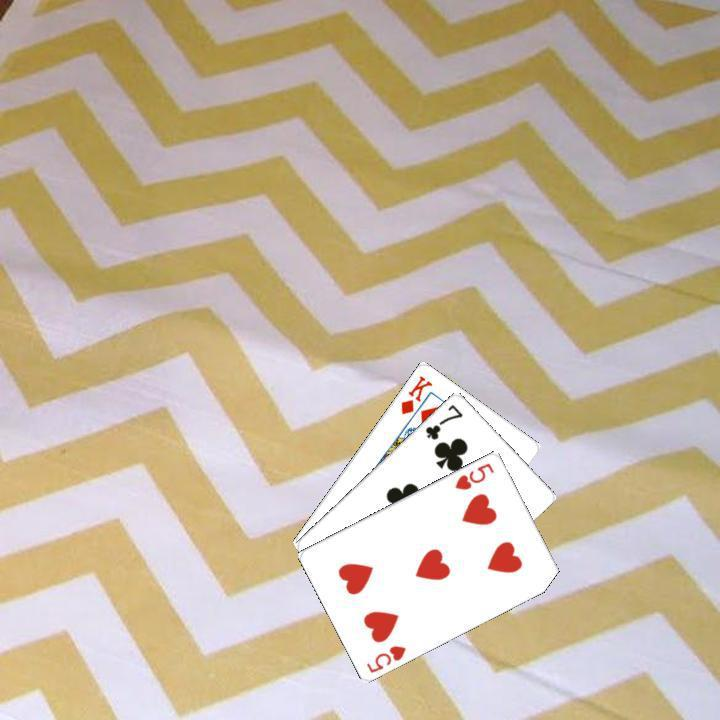5: (362, 640, 408, 675), (450, 458, 496, 492)
7: (421, 399, 465, 442)
K: (396, 371, 434, 416)
